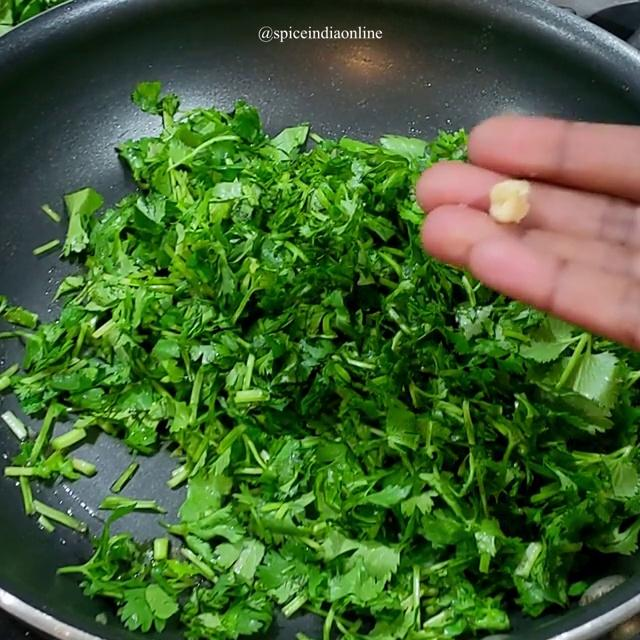cilantro: (78, 118, 411, 627)
